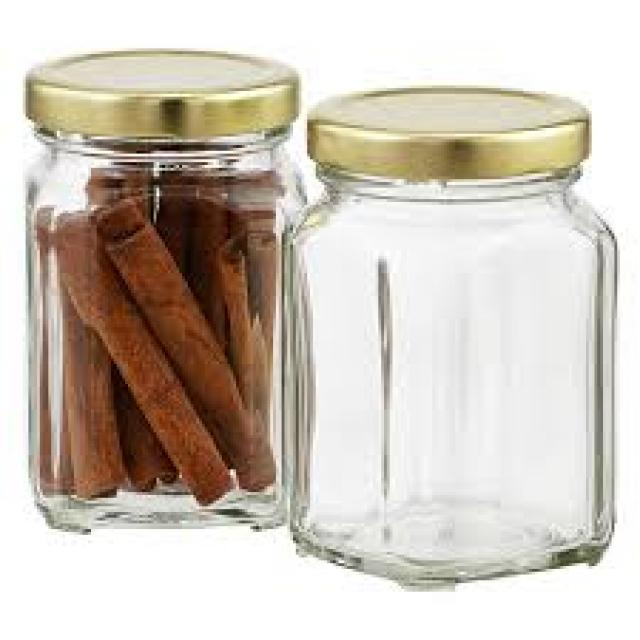organic waste: (48, 210, 230, 507), (100, 202, 273, 489), (37, 205, 119, 495), (106, 353, 176, 495), (216, 248, 265, 432), (193, 168, 225, 347), (91, 160, 148, 230), (159, 159, 191, 273), (242, 216, 270, 333), (228, 168, 268, 247)
